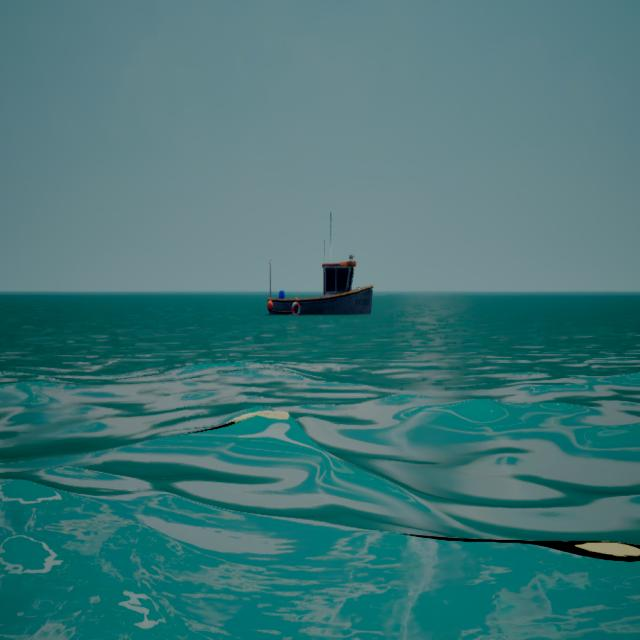ship: (264, 200, 377, 340)
